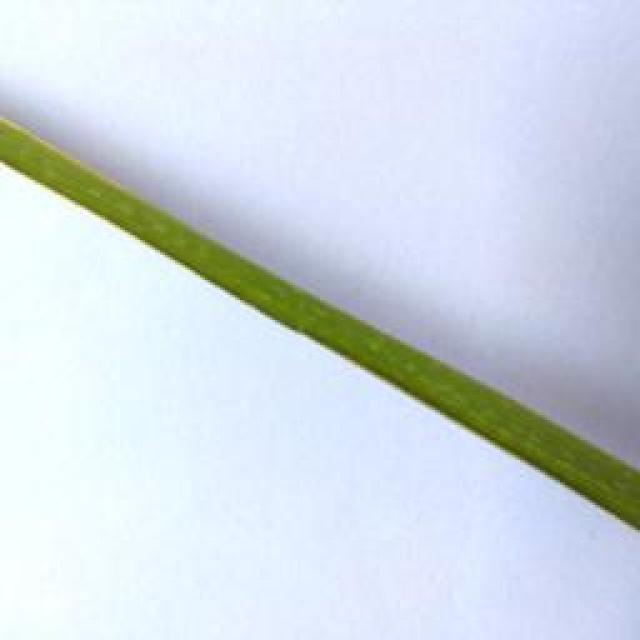Bacterial_Blight: (0, 114, 146, 205)
